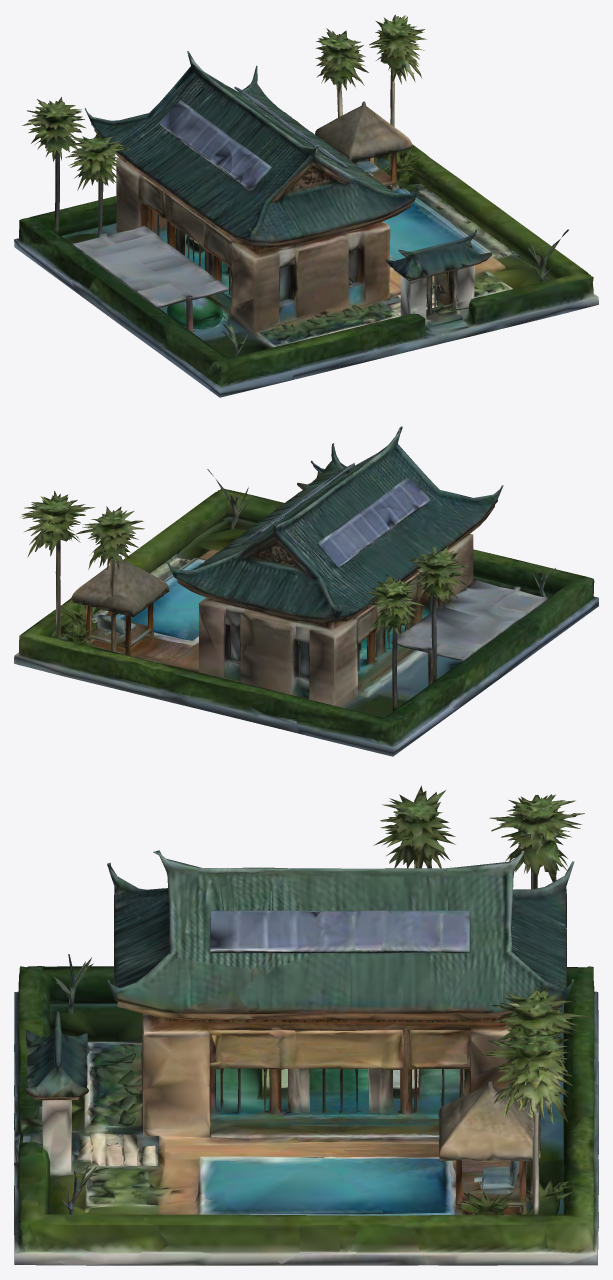
Rendered from villalo.glb.
3 views of the same model, one above another, from view 1: azimuth 30°, elevation 25°; view 2: azimuth 150°, elevation 25°; view 3: azimuth 270°, elevation 25° (orthographic). The views are drawn at different scales.
Visible parts, largest first — view 1: tripo_node_ffb416a0-5415-4ad8-8403-97ae84bd0f0a; view 2: tripo_node_ffb416a0-5415-4ad8-8403-97ae84bd0f0a; view 3: tripo_node_ffb416a0-5415-4ad8-8403-97ae84bd0f0a.
Part boxes in pixels (left/top/right/bottom): tripo_node_ffb416a0-5415-4ad8-8403-97ae84bd0f0a: left=14, top=14, right=598, bottom=397; tripo_node_ffb416a0-5415-4ad8-8403-97ae84bd0f0a: left=14, top=426, right=598, bottom=756; tripo_node_ffb416a0-5415-4ad8-8403-97ae84bd0f0a: left=14, top=785, right=598, bottom=1265.
Size of the model in its own units: 0.9835 by 0.4192 by 0.8699.
Materials: 1 (1 with a texture image).
